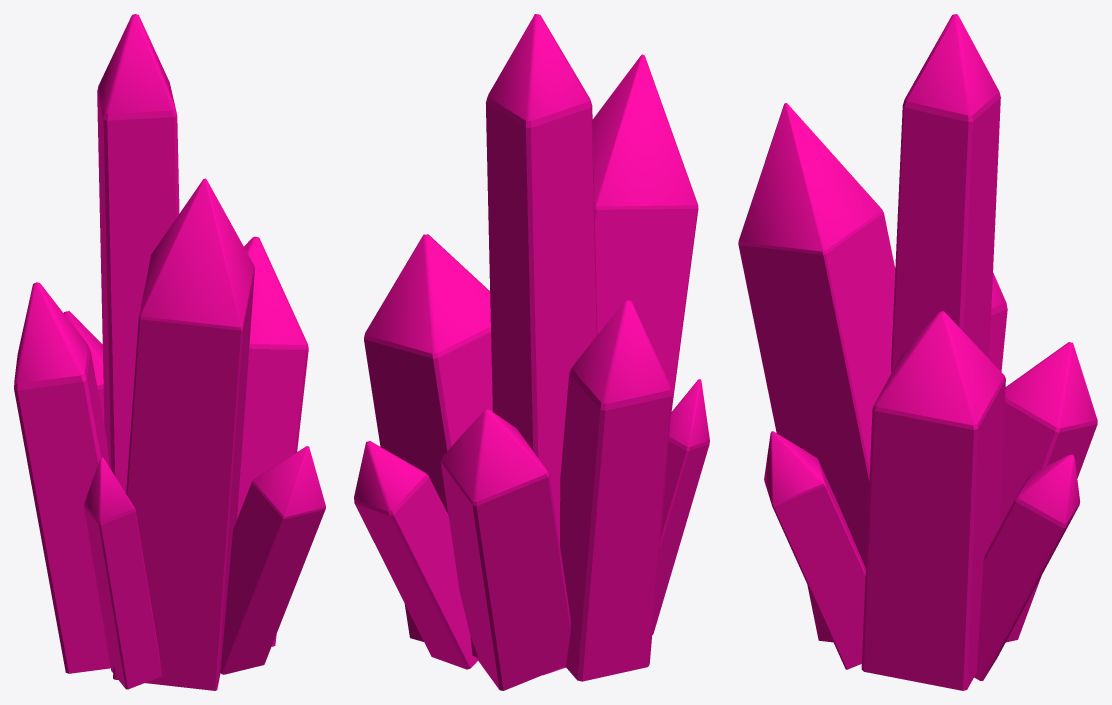
The model's file is crystalp.fbx.
3 views of the same model, side by side, from view 1: azimuth 30°, elevation 25°; view 2: azimuth 150°, elevation 25°; view 3: azimuth 270°, elevation 25° (orthographic). The views are drawn at different scales.
Visible parts, largest first — view 1: CrystalCrack; view 2: CrystalCrack; view 3: CrystalCrack.
Part boxes in pixels (x1=…): CrystalCrack: x1=14, y1=14, x2=325, y2=690; CrystalCrack: x1=354, y1=14, x2=709, y2=690; CrystalCrack: x1=738, y1=14, x2=1097, y2=690.
Bounding box in the file's own units: 23.69 × 50.45 × 26.36.
Materials: 2 (1 with a texture image).
